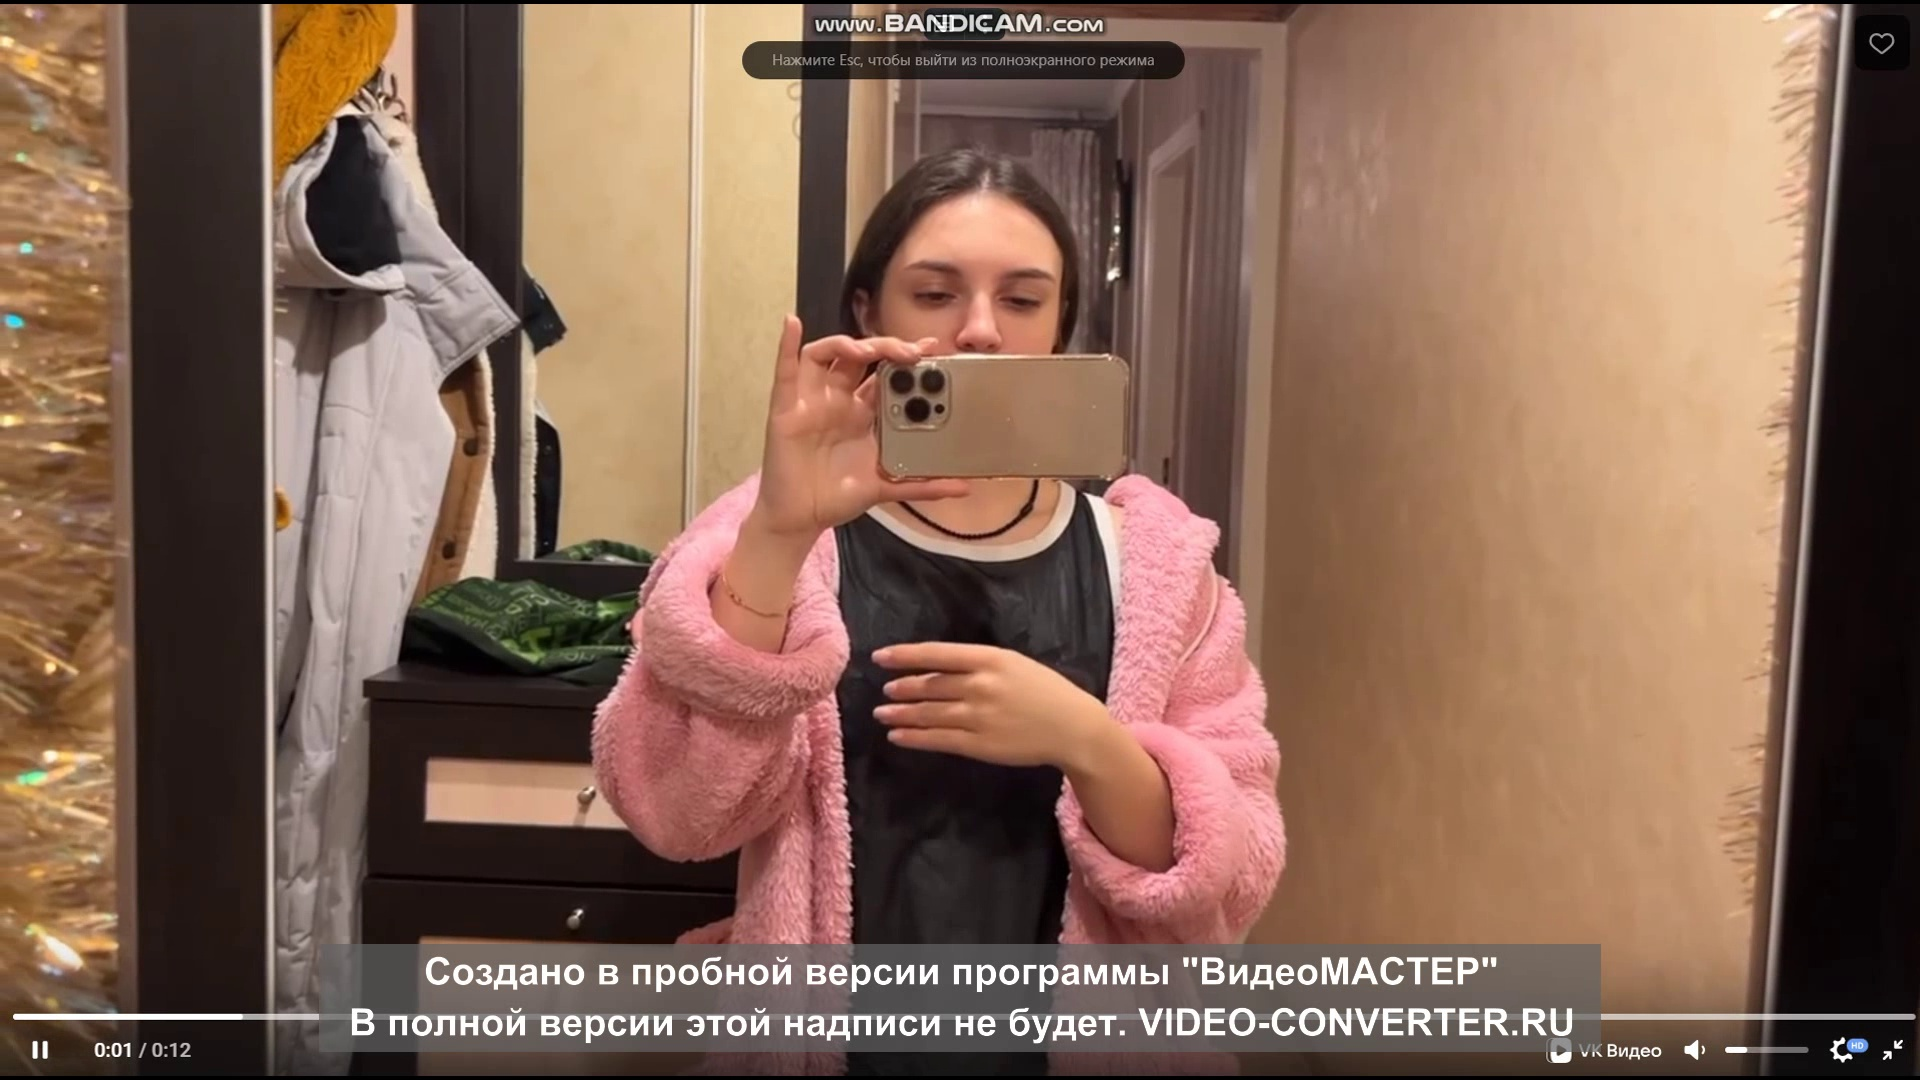Кисть: (868, 640, 1079, 764)
